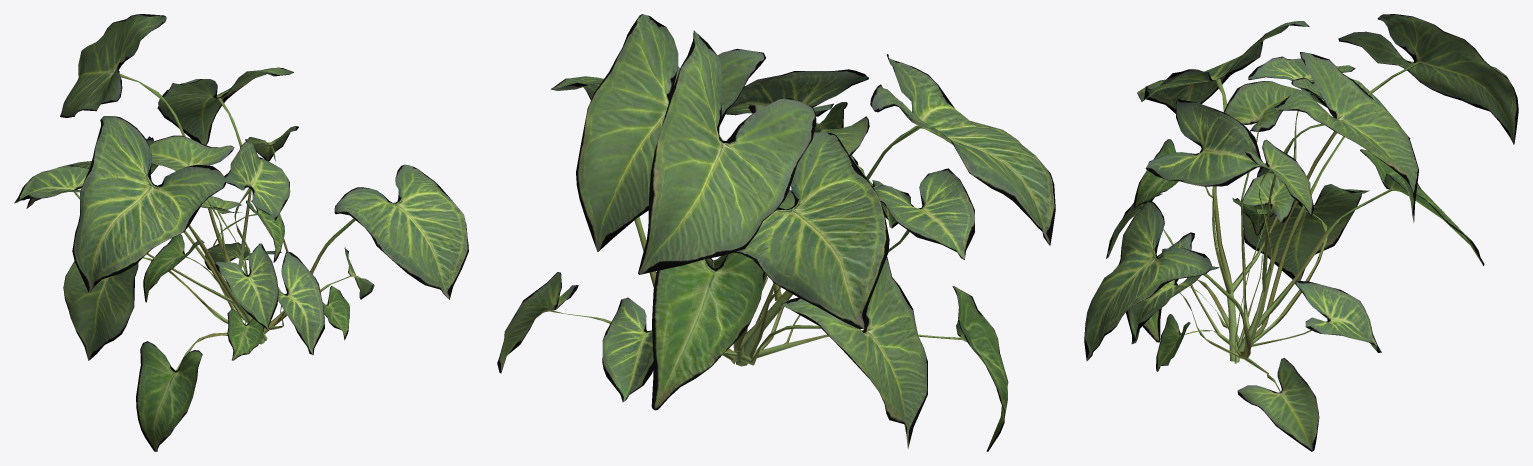
The model's file is leaves.glb.
The picture shows the model from 3 angles, left to right: view 1: azimuth 30°, elevation 25°; view 2: azimuth 150°, elevation 25°; view 3: azimuth 270°, elevation 25°; orthographic projection. The views are drawn at different scales.
Visible parts, largest first — view 1: potted_plant_02_leaves; view 2: potted_plant_02_leaves; view 3: potted_plant_02_leaves.
Part boxes in pixels (box(x1,y1,x2,y2)): potted_plant_02_leaves: box(14, 14, 468, 451); potted_plant_02_leaves: box(497, 14, 1055, 451); potted_plant_02_leaves: box(1084, 14, 1518, 451).
Bounding box in the file's own units: 0.7009 × 0.6326 × 0.6432.
Materials: 1 (1 with a texture image).
